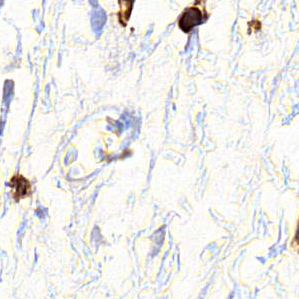Lymphocyte: (177, 5, 203, 34)
